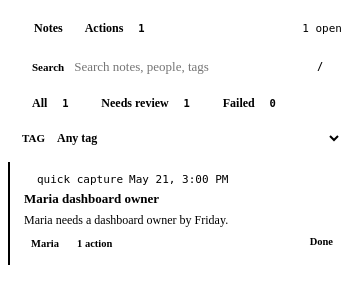
it: InboxList › uses singular action labels for one suggested action
Expected: the text "1 action" is shown, [77,238,112,249]
Click the button "Actions 1".
click(120, 28)  # box [75,16,164,40]
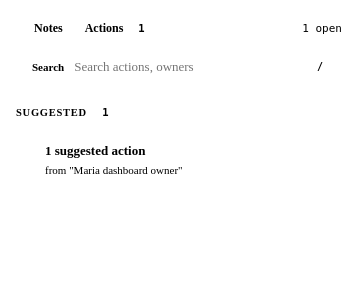
Now the text "1 suggested action" is shown, box [45,143,145,158]
